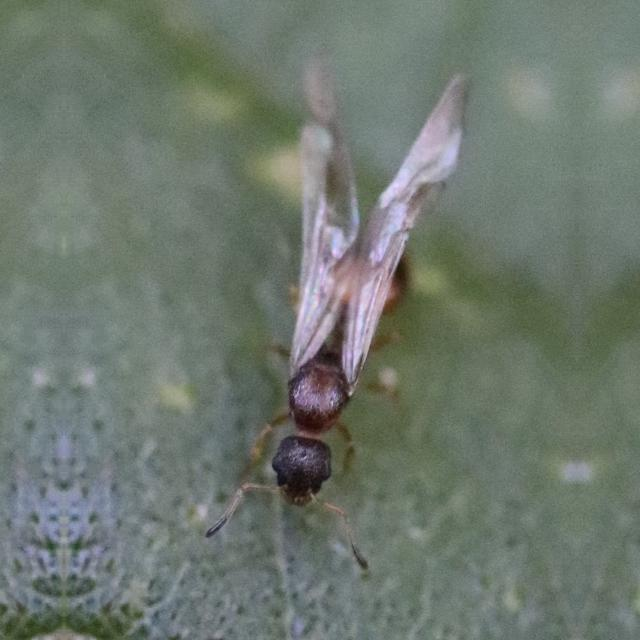Temnothorax: (208, 57, 520, 561)
